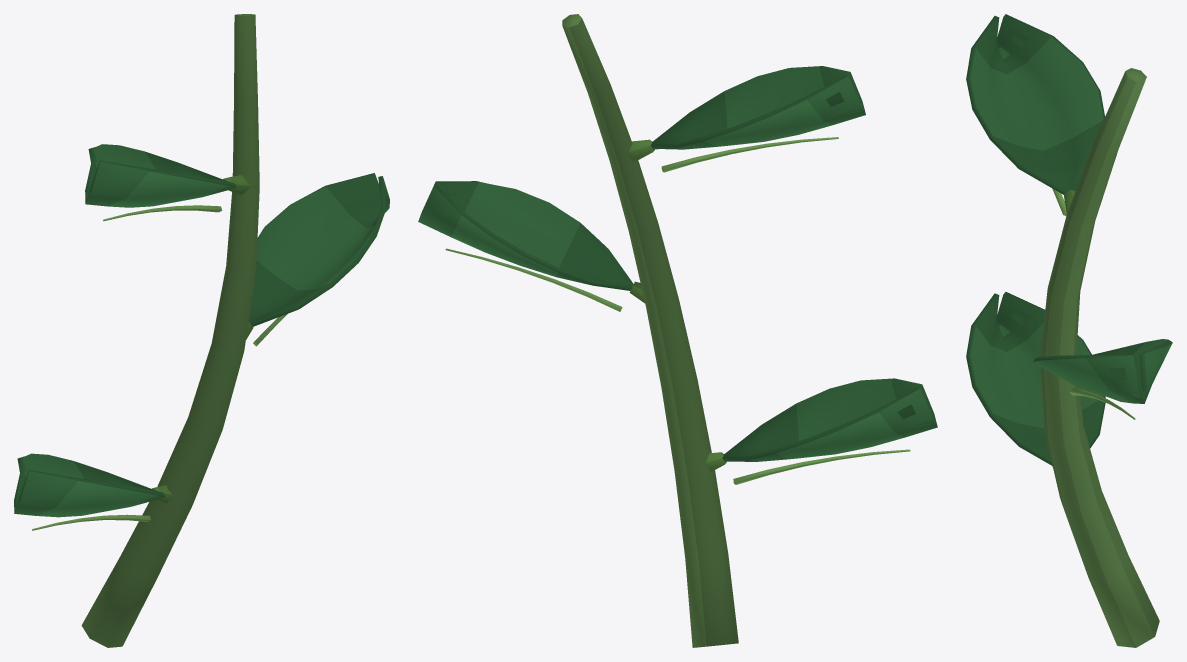
File: garden-geranium-leaves-stem-2.glb
3 views of the same model, side by side, from view 1: azimuth 30°, elevation 25°; view 2: azimuth 150°, elevation 25°; view 3: azimuth 270°, elevation 25° (orthographic). The views are drawn at different scales.
Parts seen in each view (by area): view 1: geranium-leaves-stem-2; view 2: geranium-leaves-stem-2; view 3: geranium-leaves-stem-2.
Boxes of the visible parts, <box> form: geranium-leaves-stem-2: <box>14,14,389,647</box>; geranium-leaves-stem-2: <box>418,14,937,647</box>; geranium-leaves-stem-2: <box>966,14,1172,647</box>.
Bounding box in the file's own units: 0.1519 × 0.1946 × 0.0567.
